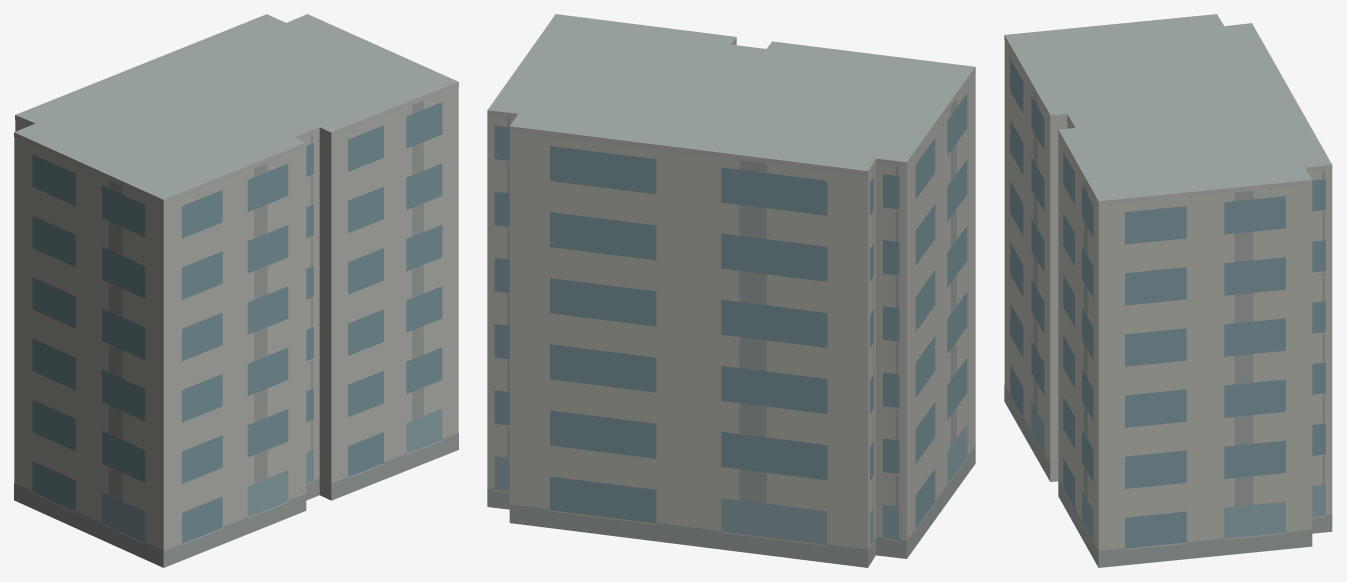
The model's file is survey-upis-32638618.glb.
3 renders of one model, left to right at view 1: azimuth 30°, elevation 25°; view 2: azimuth 150°, elevation 25°; view 3: azimuth 270°, elevation 25°, orthographic. The views are drawn at different scales.
Visible parts, largest first — view 1: survey-upis-32638618.tmp; view 2: survey-upis-32638618.tmp; view 3: survey-upis-32638618.tmp.
Boxes of the visible parts, x1=… form: survey-upis-32638618.tmp: x1=14, y1=14, x2=458, y2=567; survey-upis-32638618.tmp: x1=487, y1=14, x2=975, y2=567; survey-upis-32638618.tmp: x1=1004, y1=14, x2=1332, y2=567.
Size of the model in its own units: 20.38 by 18.6 by 15.09.
